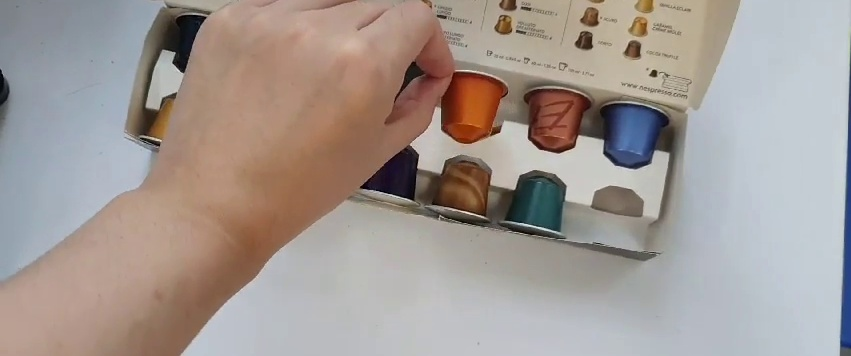capsule_5: (437, 66, 511, 141)
